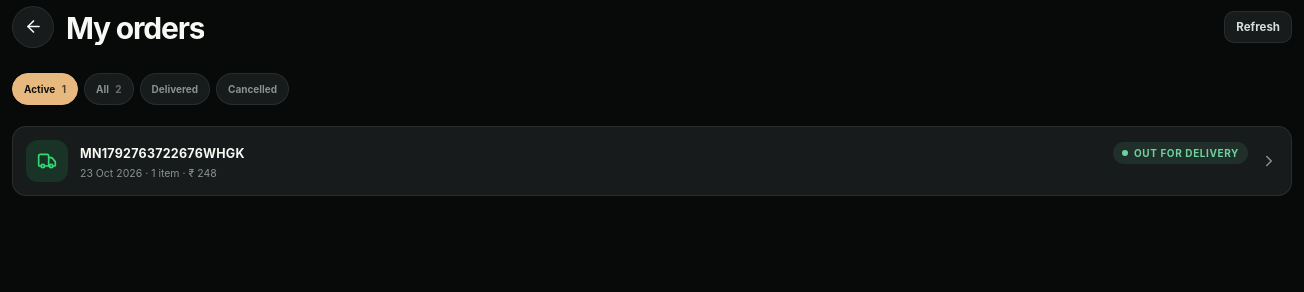
Test: ShopOrdersScreen with the server history › merges the account history: server copy wins on a shared id, local-only orders survive
Note: The second (delivered) server order lives under the "All" tab.
Click the button "All 2" at [109, 89], box [84,73,134,105]
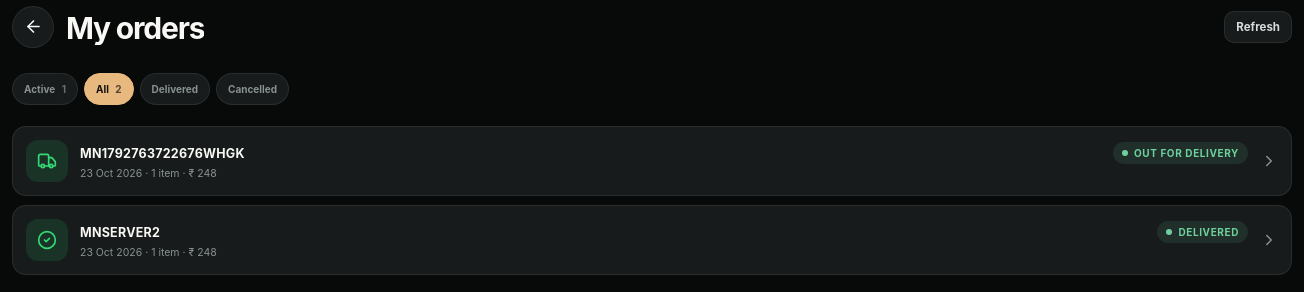
Expected: the text "Delivered" is shown, [140,73,210,105]
Now the text "MNSERVER2" is shown, box [80,224,160,240]
